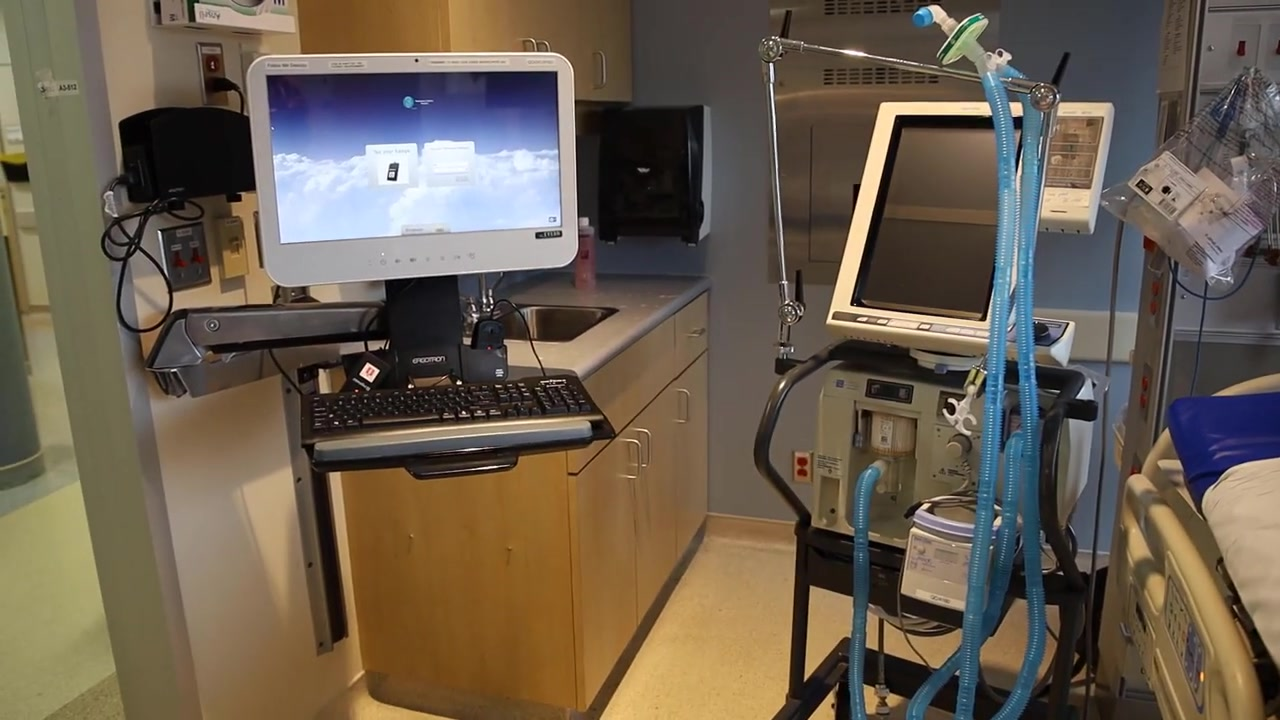bedrail: (1111, 474, 1266, 720)
breathing_tube: (848, 3, 1047, 720)
computer: (245, 52, 579, 288)
counter: (323, 279, 711, 718)
countertop: (462, 271, 709, 382)
dispenser: (595, 102, 713, 247)
faucet: (460, 272, 504, 324)
handle: (620, 434, 645, 480), (634, 424, 655, 470), (592, 50, 607, 90), (675, 388, 691, 424), (520, 38, 551, 53), (686, 326, 707, 338)
hospital_bed: (1113, 369, 1280, 720)
keyboard: (301, 374, 604, 446)
sink: (482, 304, 620, 343)
ventilator: (753, 7, 1117, 720)
